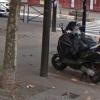Motorcycle: (52, 15, 100, 90)
